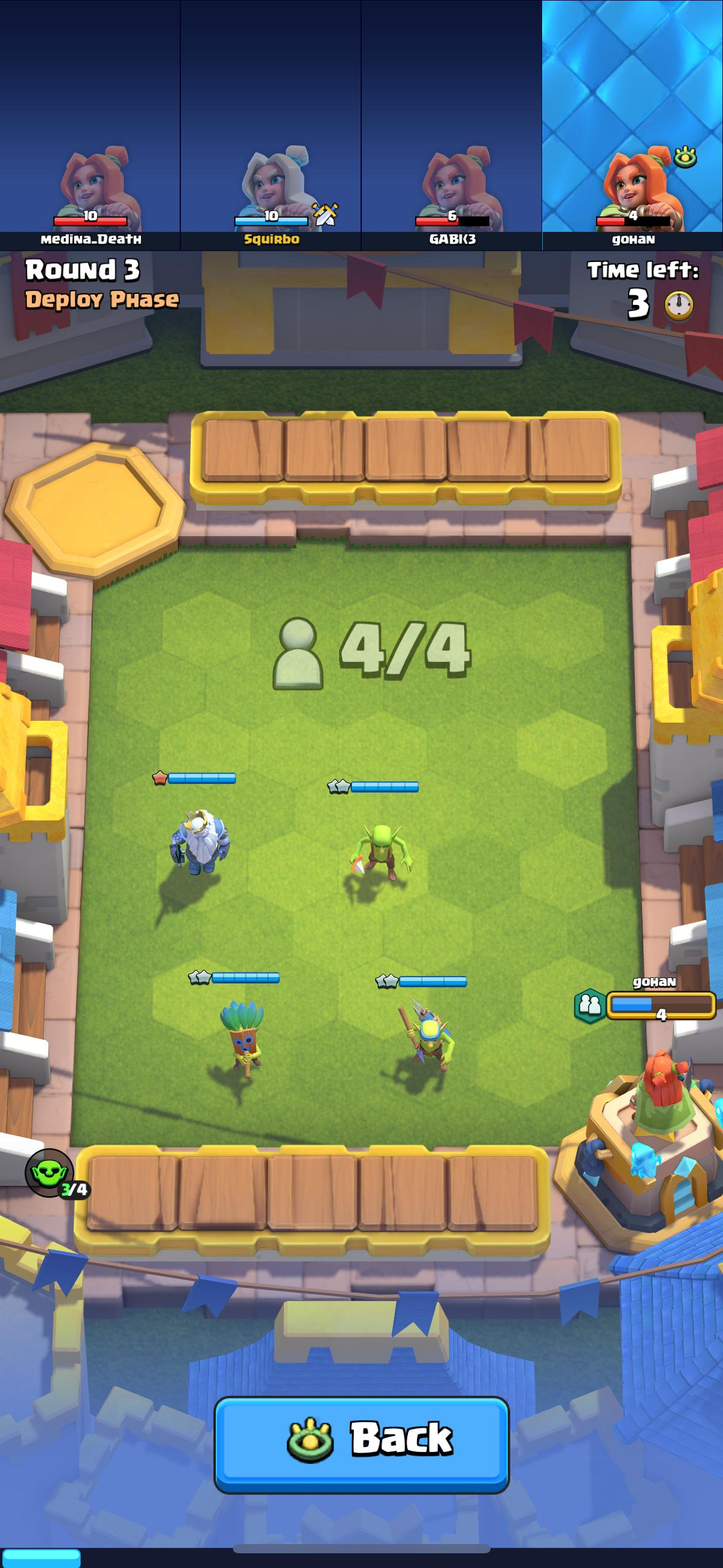dart: (216, 997, 271, 1078)
ghost: (164, 803, 233, 878)
goblin: (352, 811, 418, 890)
spear: (392, 1000, 461, 1073)
